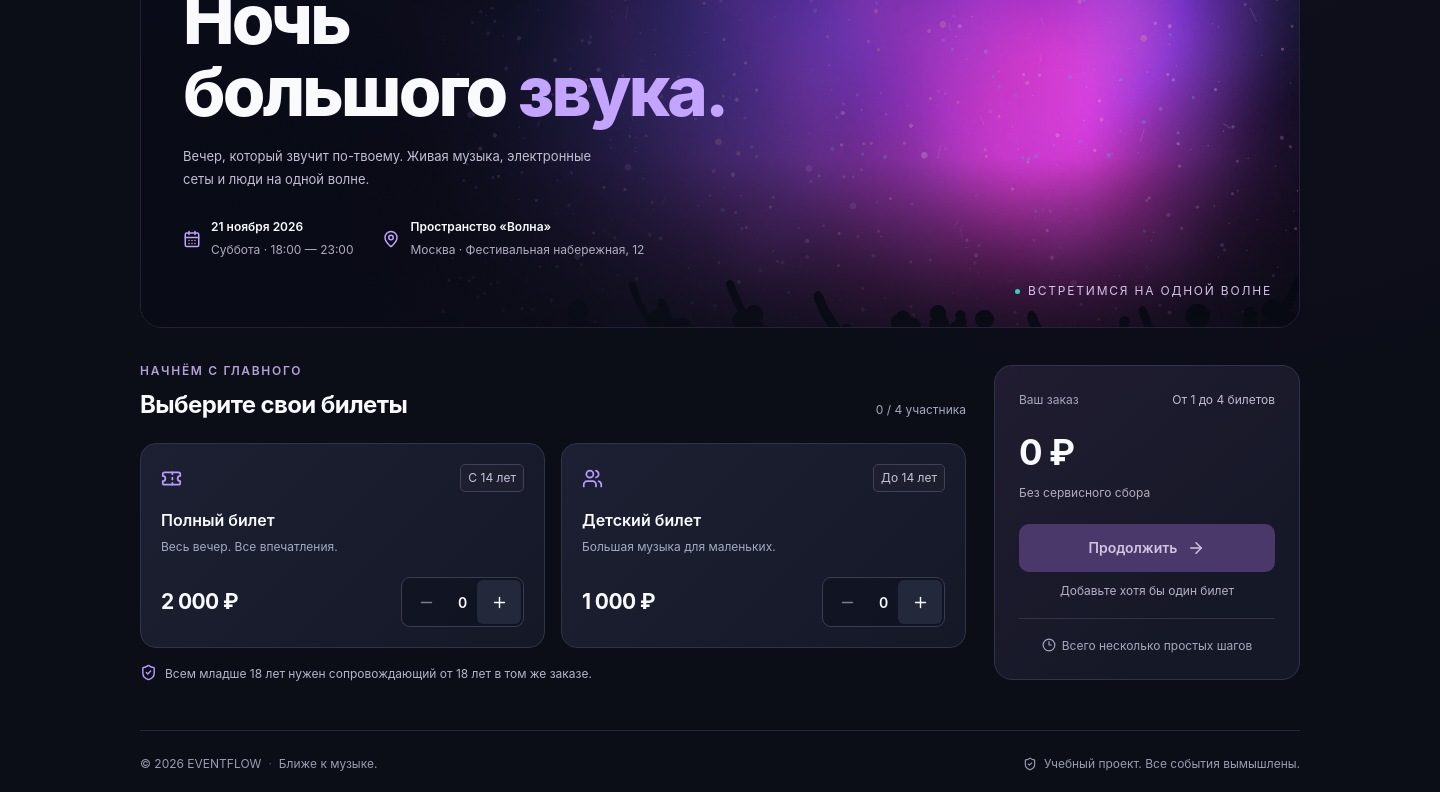
Test case: S02: ошибки формы и граница mock API › нормализация не мешает набору; review и API получают одинаковое нормализованное имя
(page scrolled)
Step 1. Click the button named "Добавить: Полный билет" → [499, 602], box [477,580,521,624]
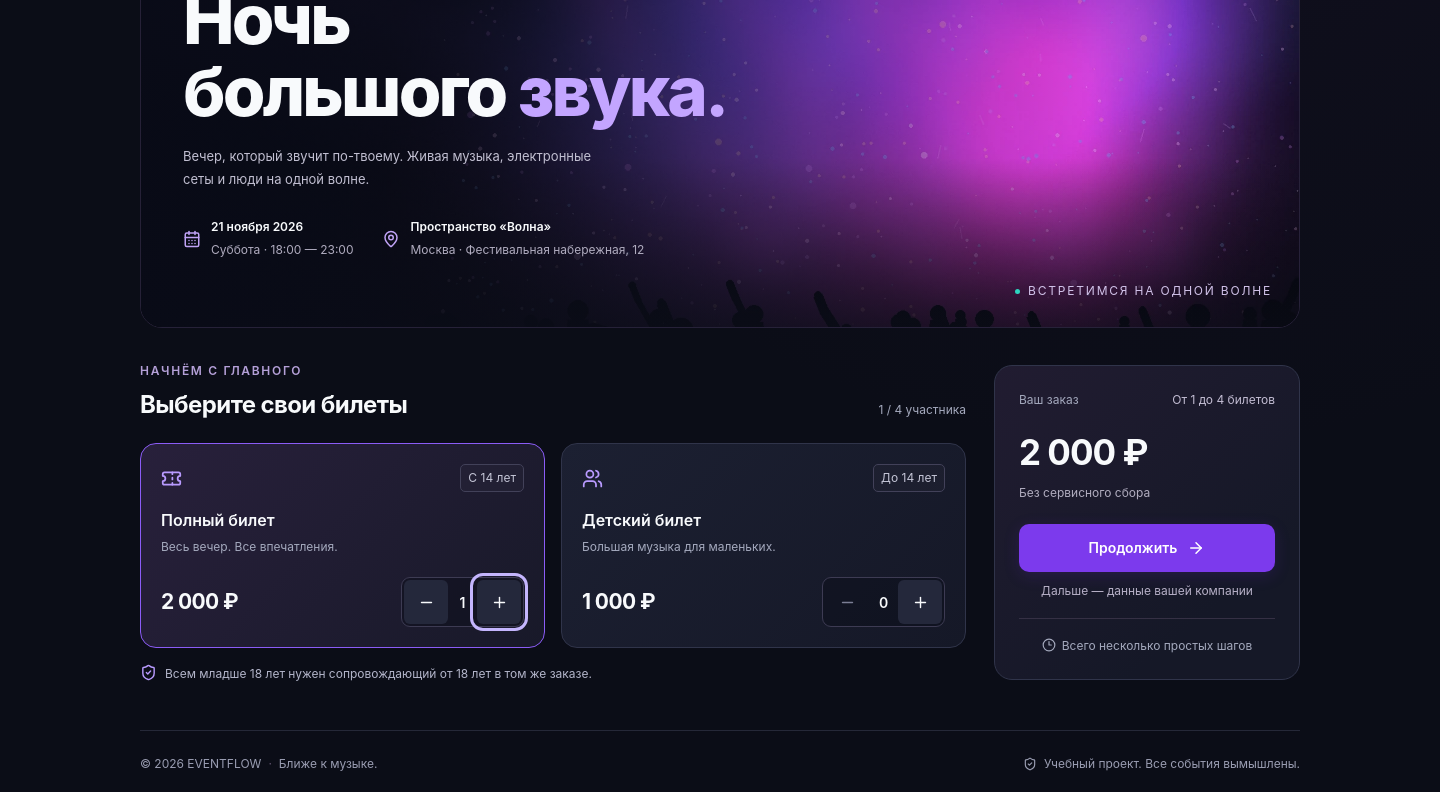
Step 2. Click the button "Продолжить" → [1147, 548], box [1019,524,1275,572]
(page scrolled)
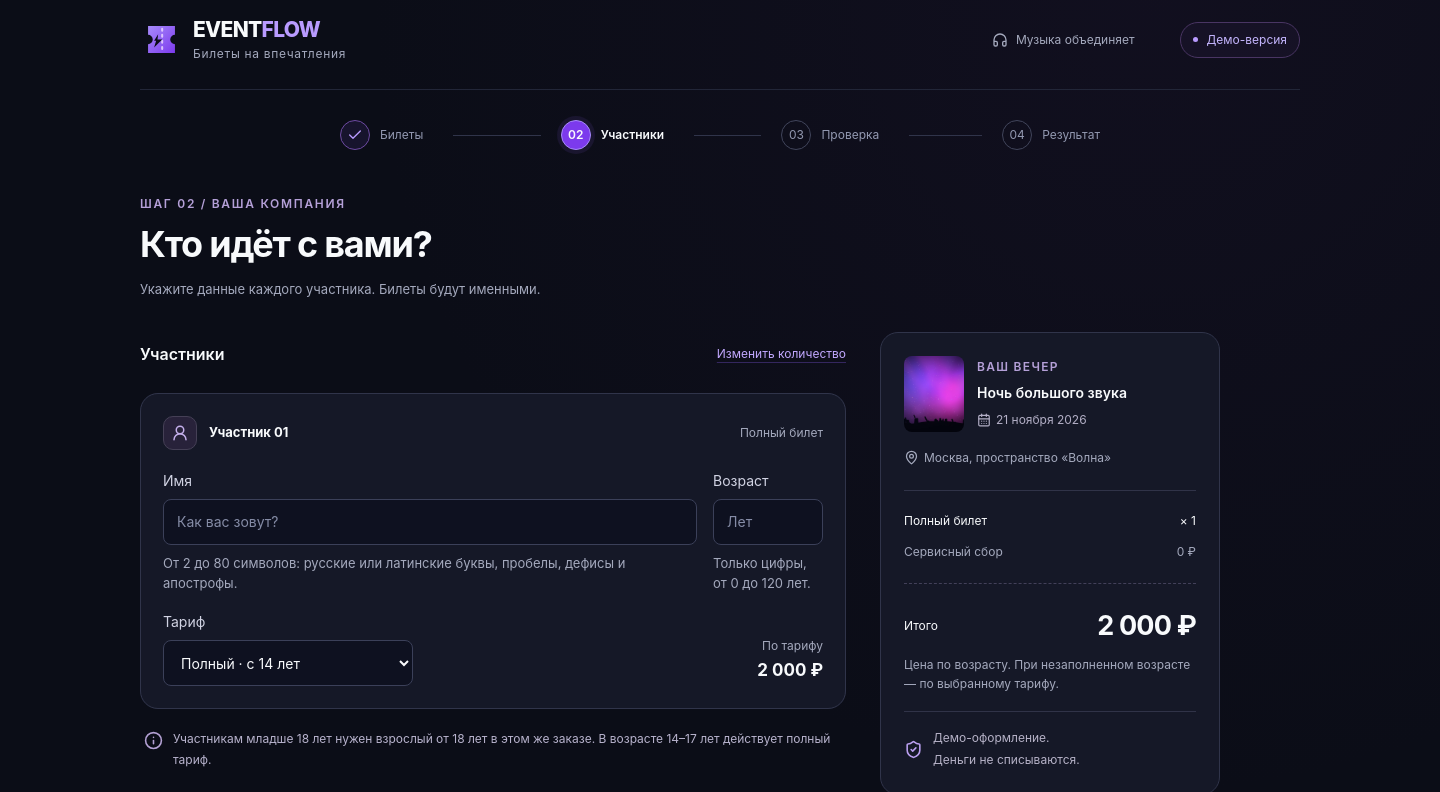
Step 3. Type "18" into the field labelled "Возраст" → [768, 522], box [713,499,823,545]
(page scrolled)
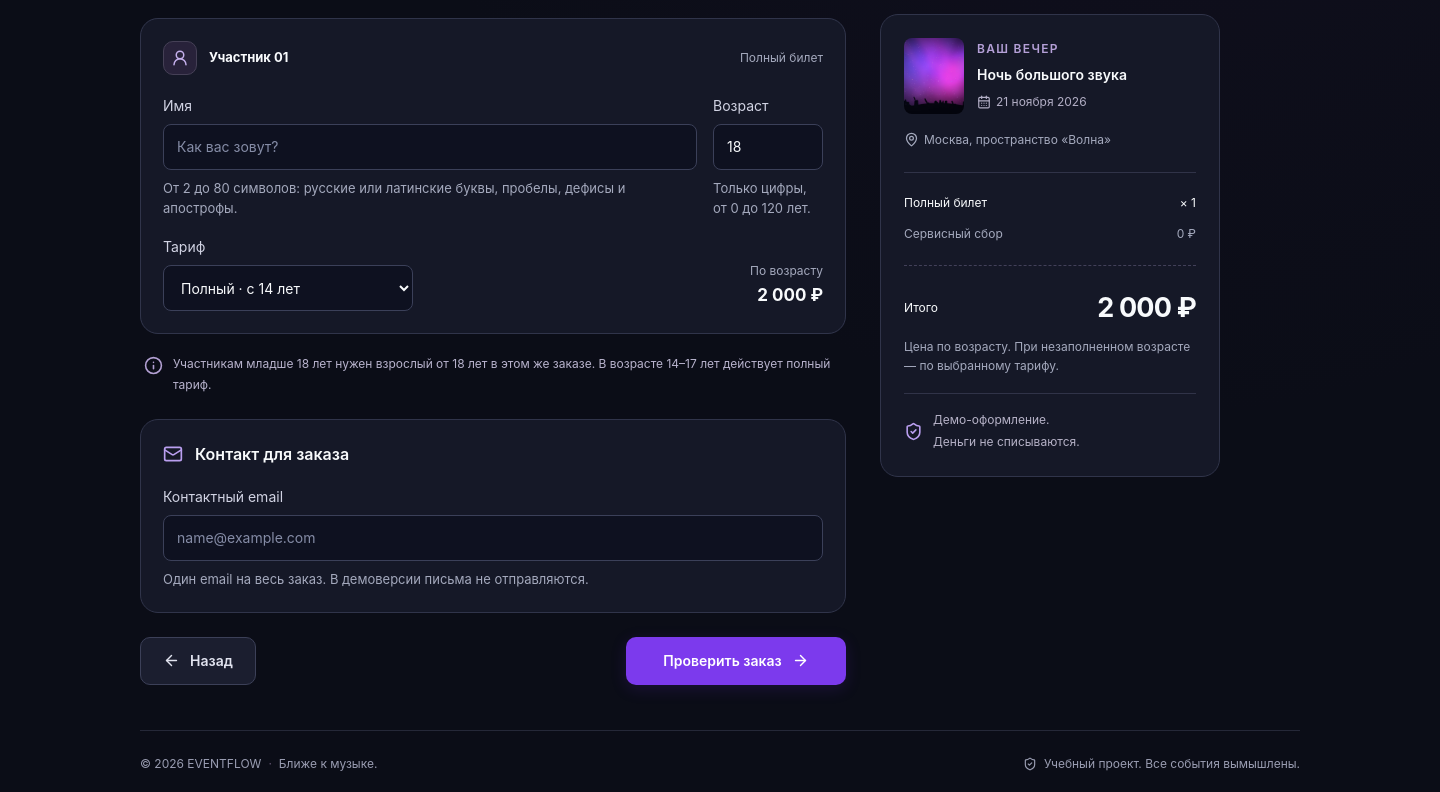
Step 4. Type "demo@example.com" into the field labelled "Контактный email" → [493, 538], box [163,515,823,561]
Step 5. Type "  Anne  O'Connor  " into the field labelled "Имя" → [430, 147], box [163,124,697,170]
Step 6. Press Tab
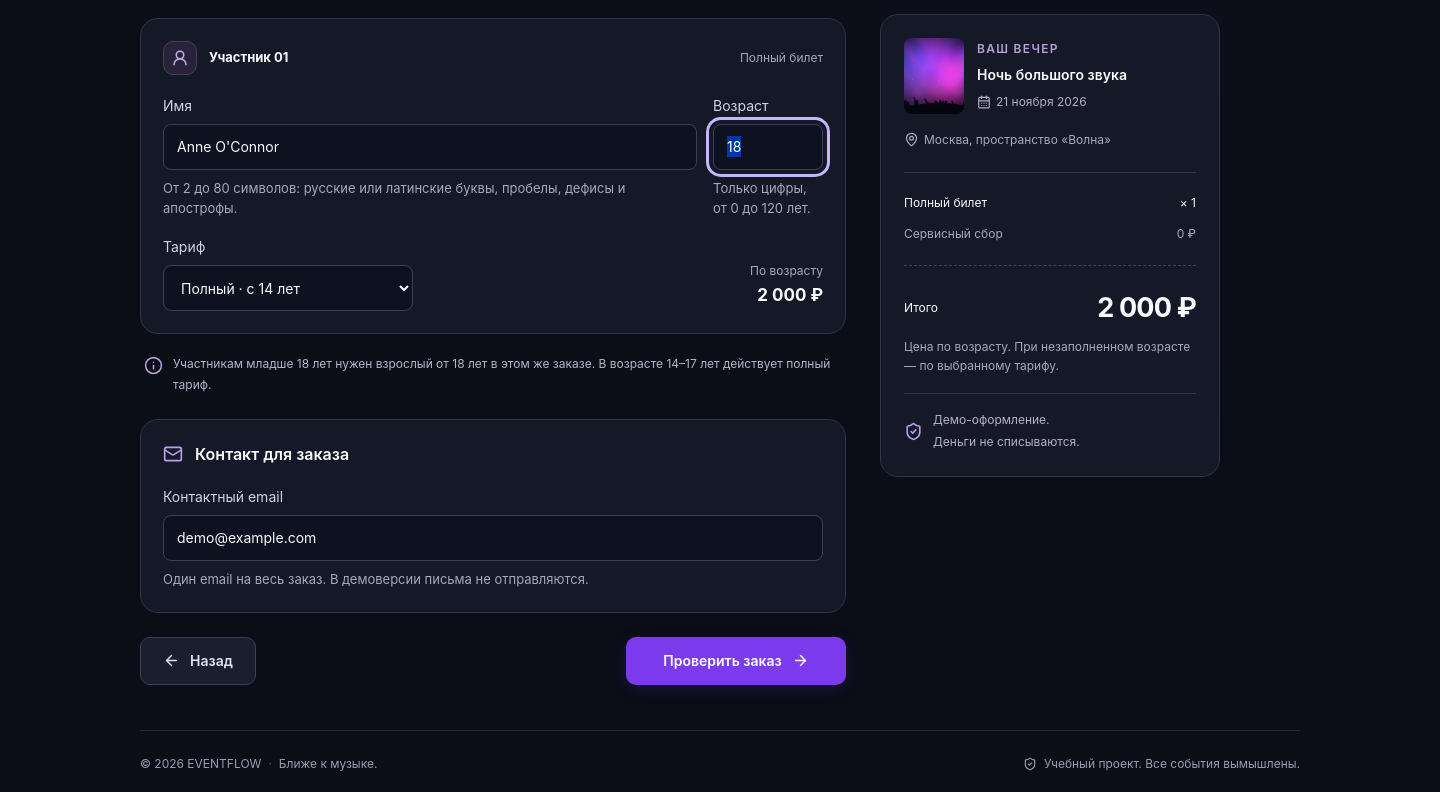
Step 7. Click the button "Проверить заказ" → [736, 661], box [626,637,846,685]
(page scrolled)
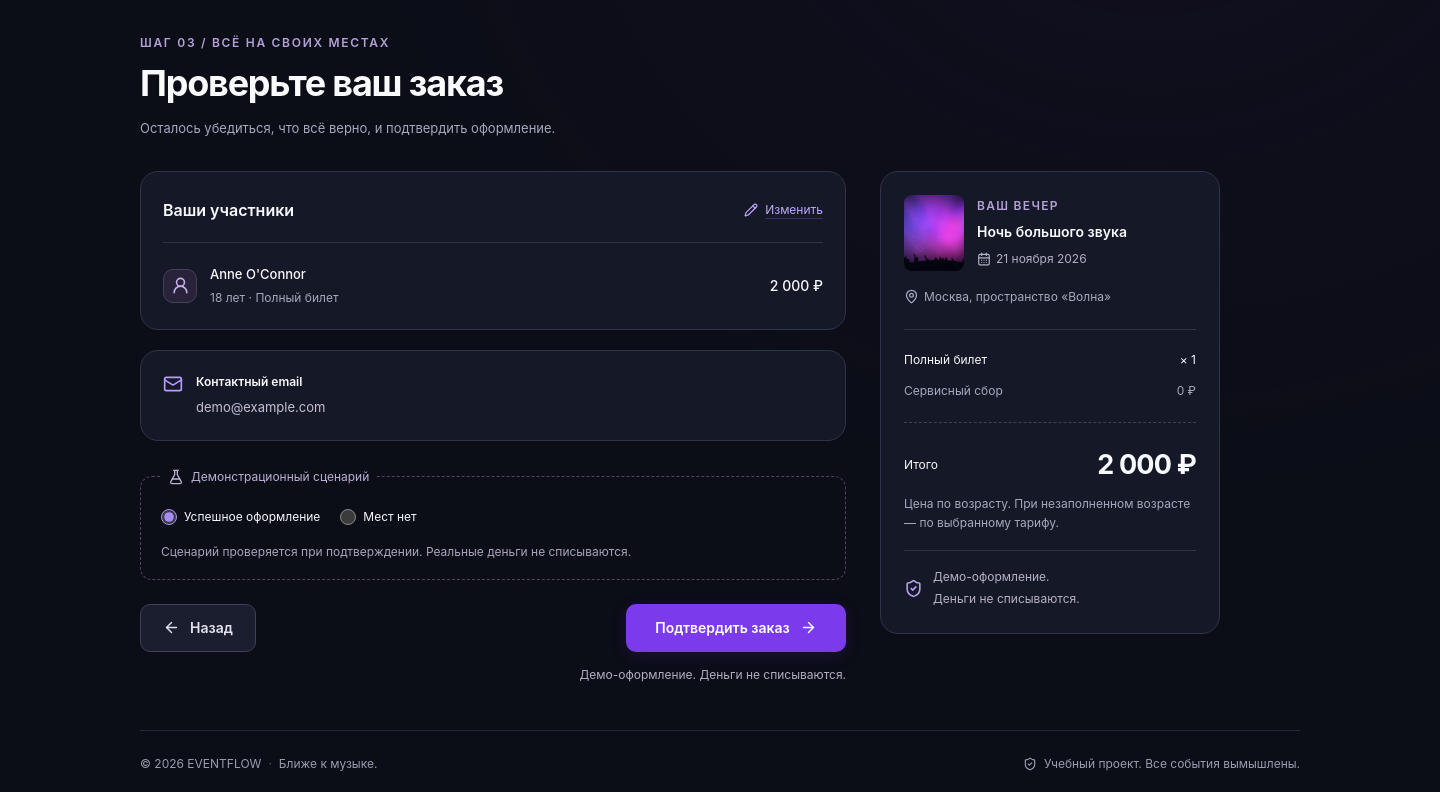
Now the text "Anne O'Connor" is shown, box [210,266,306,282]
Step 8. Click the button "Подтвердить заказ" → [736, 628], box [626,604,846,652]
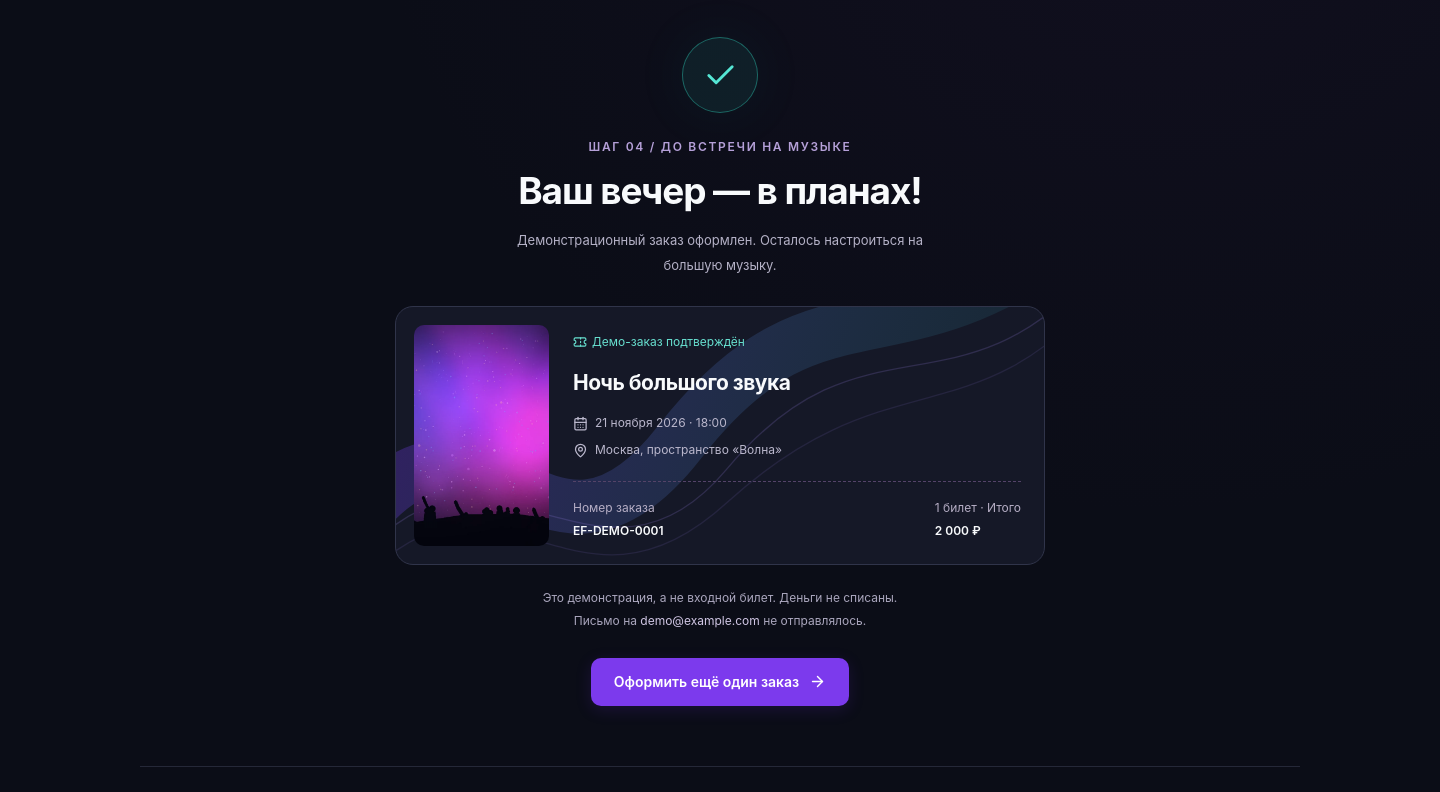
Now the heading "Ваш вечер — в планах!" is shown, box [518,168,922,213]
